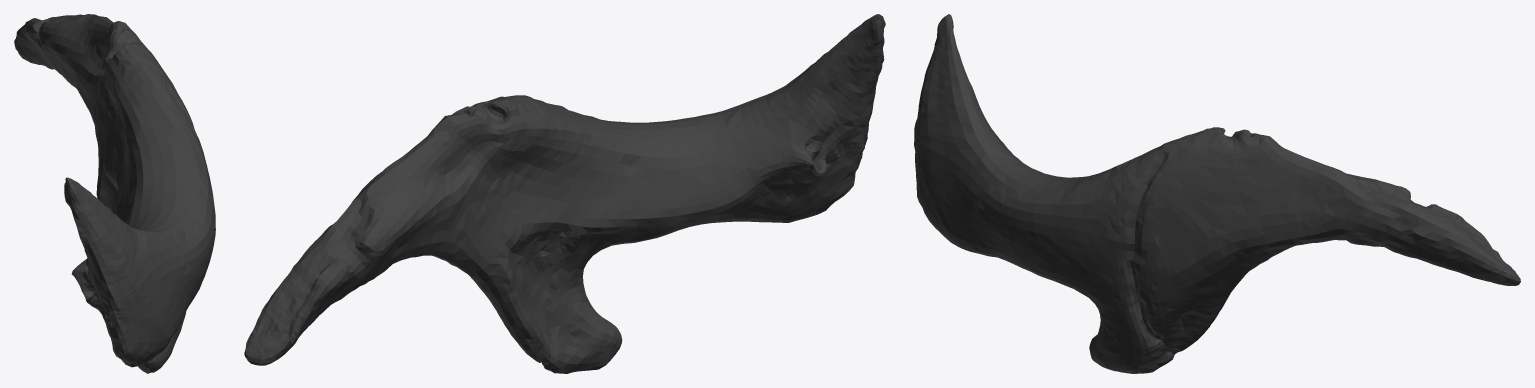
The model's file is Zygomatic_L.glb.
3 renders of one model, left to right at view 1: azimuth 30°, elevation 25°; view 2: azimuth 150°, elevation 25°; view 3: azimuth 270°, elevation 25°, orthographic. The views are drawn at different scales.
Parts seen in each view (by area): view 1: Zygomatic_L; view 2: Zygomatic_L; view 3: Zygomatic_L.
Part boxes in pixels (<box>): Zygomatic_L: <box>14,14,215,373</box>; Zygomatic_L: <box>244,14,885,373</box>; Zygomatic_L: <box>914,14,1520,373</box>.
Bounding box in the file's own units: 165 × 169 × 333.
1 material, 1 textured.
